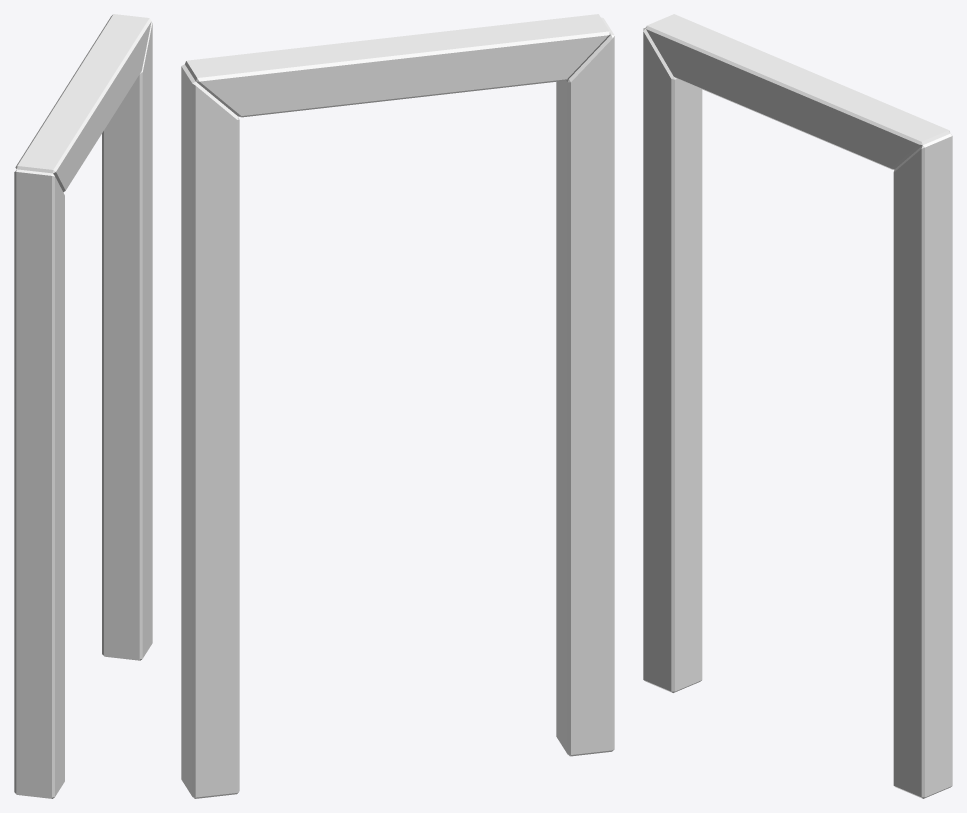
File: Door_frame.001.fbx
3 renders of one model, left to right at view 1: azimuth 30°, elevation 25°; view 2: azimuth 150°, elevation 25°; view 3: azimuth 270°, elevation 25°, orthographic. The views are drawn at different scales.
Parts seen in each view (by area): view 1: Door_frame.001; view 2: Door_frame.001; view 3: Door_frame.001.
Part boxes in pixels (bbox=[...]): Door_frame.001: bbox=[14, 14, 152, 798]; Door_frame.001: bbox=[181, 14, 614, 798]; Door_frame.001: bbox=[643, 14, 952, 798].
Size of the model in its own units: 0.8538 by 2 by 0.8538.
